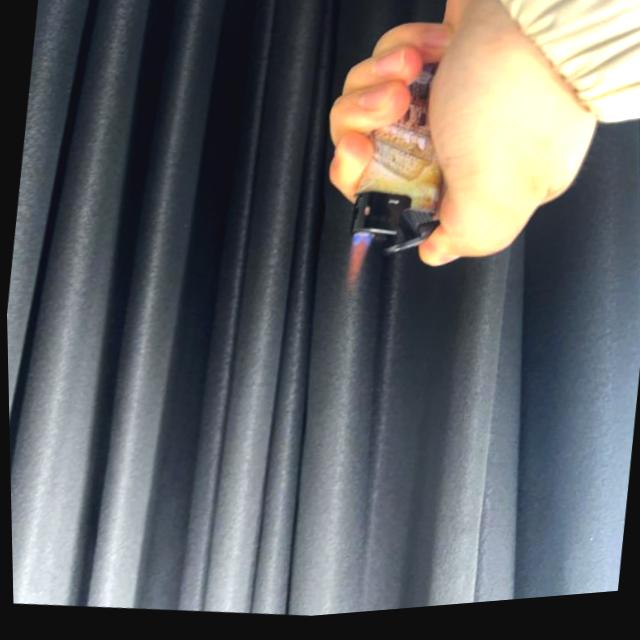helmet: (341, 235, 371, 297)
